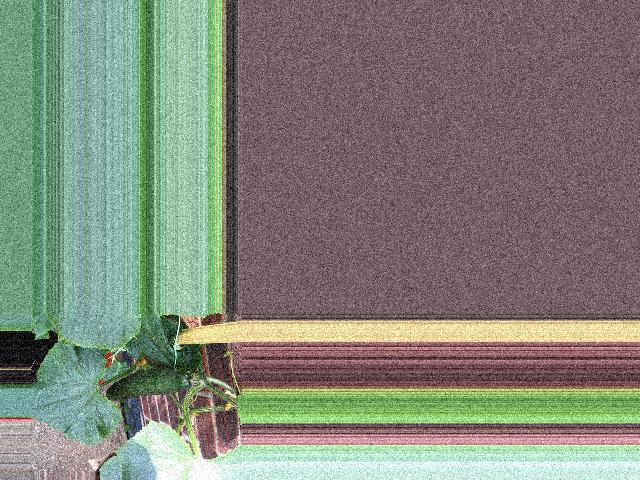cucumber: (106, 368, 192, 402)
